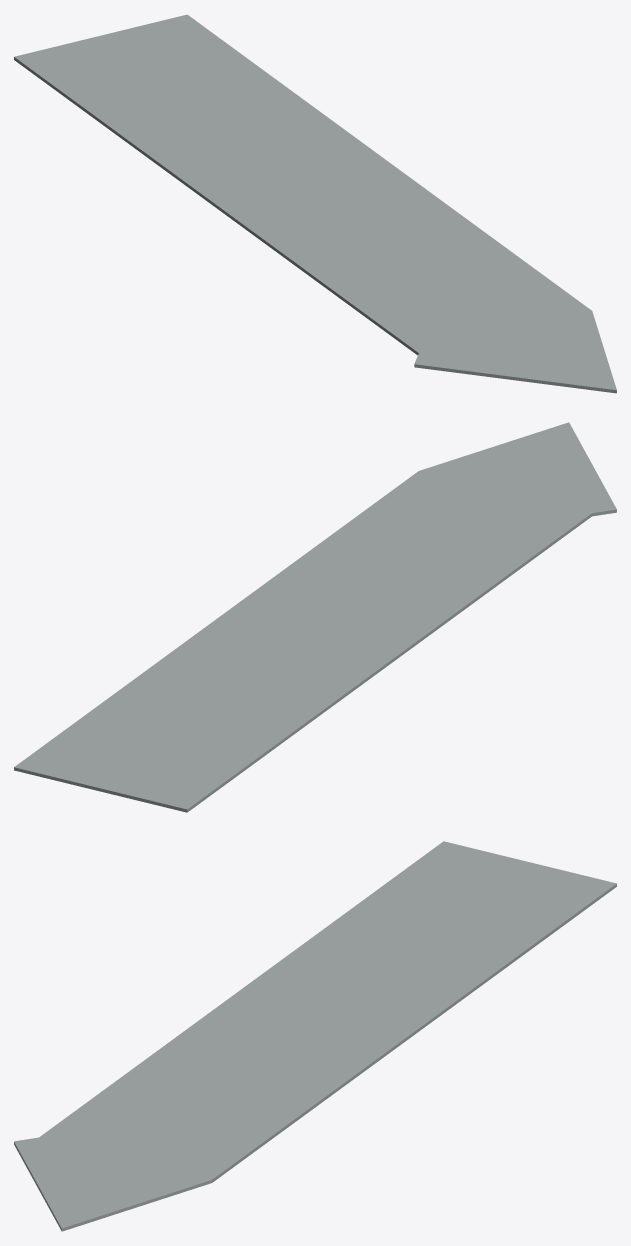
Rendered from specimenroom_top_tunnel_floor.fbx.
3 views of the same model, one above another, from view 1: azimuth 30°, elevation 25°; view 2: azimuth 150°, elevation 25°; view 3: azimuth 330°, elevation 25° (orthographic).
Parts seen in each view (by area): view 1: Plane.014; view 2: Plane.014; view 3: Plane.014.
Boxes of the visible parts, box(x1,y1,x2,y2) form: Plane.014: box(14, 14, 616, 393); Plane.014: box(14, 422, 616, 812); Plane.014: box(14, 841, 616, 1231).
Bounding box in the file's own units: 616 × 10 × 2791.
